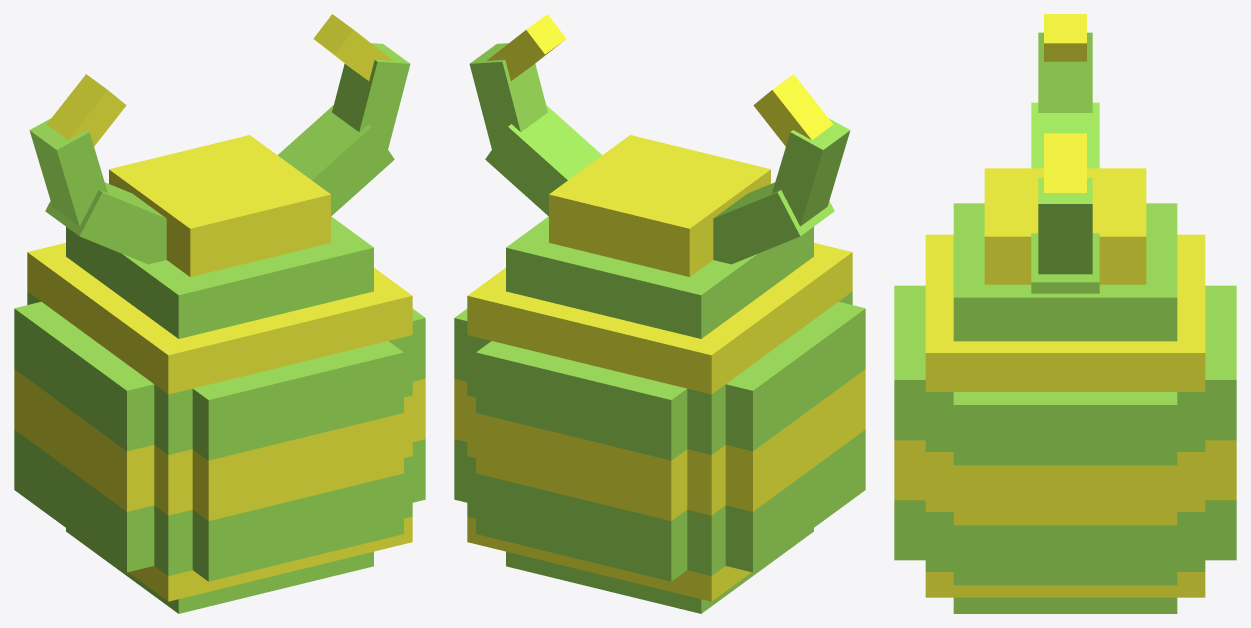
The model's file is 32.KingSnake.fbx.
The picture shows the model from 3 angles, left to right: view 1: azimuth 30°, elevation 25°; view 2: azimuth 150°, elevation 25°; view 3: azimuth 270°, elevation 25°; orthographic projection.
Visible parts, largest first — view 1: KingSnake; view 2: KingSnake; view 3: KingSnake.
Part boxes in pixels (x1,y1,x2,y2): KingSnake: (14, 14, 425, 613); KingSnake: (454, 14, 865, 613); KingSnake: (894, 14, 1236, 613).
Bounding box in the file's own units: 3.42 × 4.59 × 2.89.
